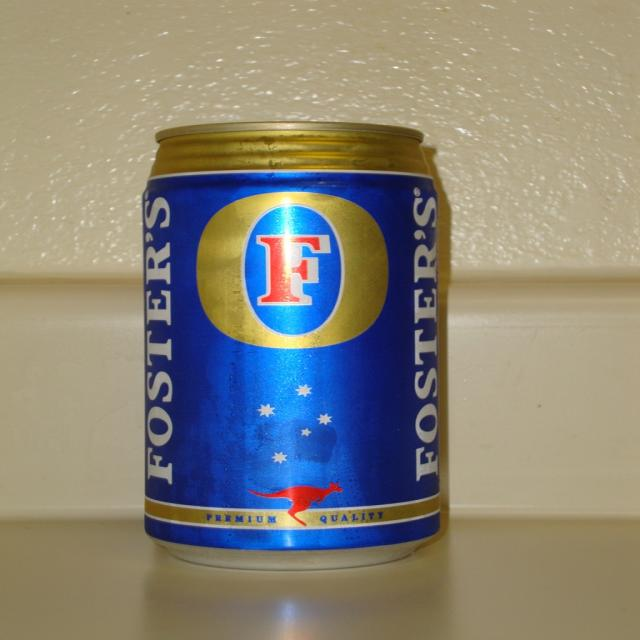fosters: (194, 189, 394, 354)
